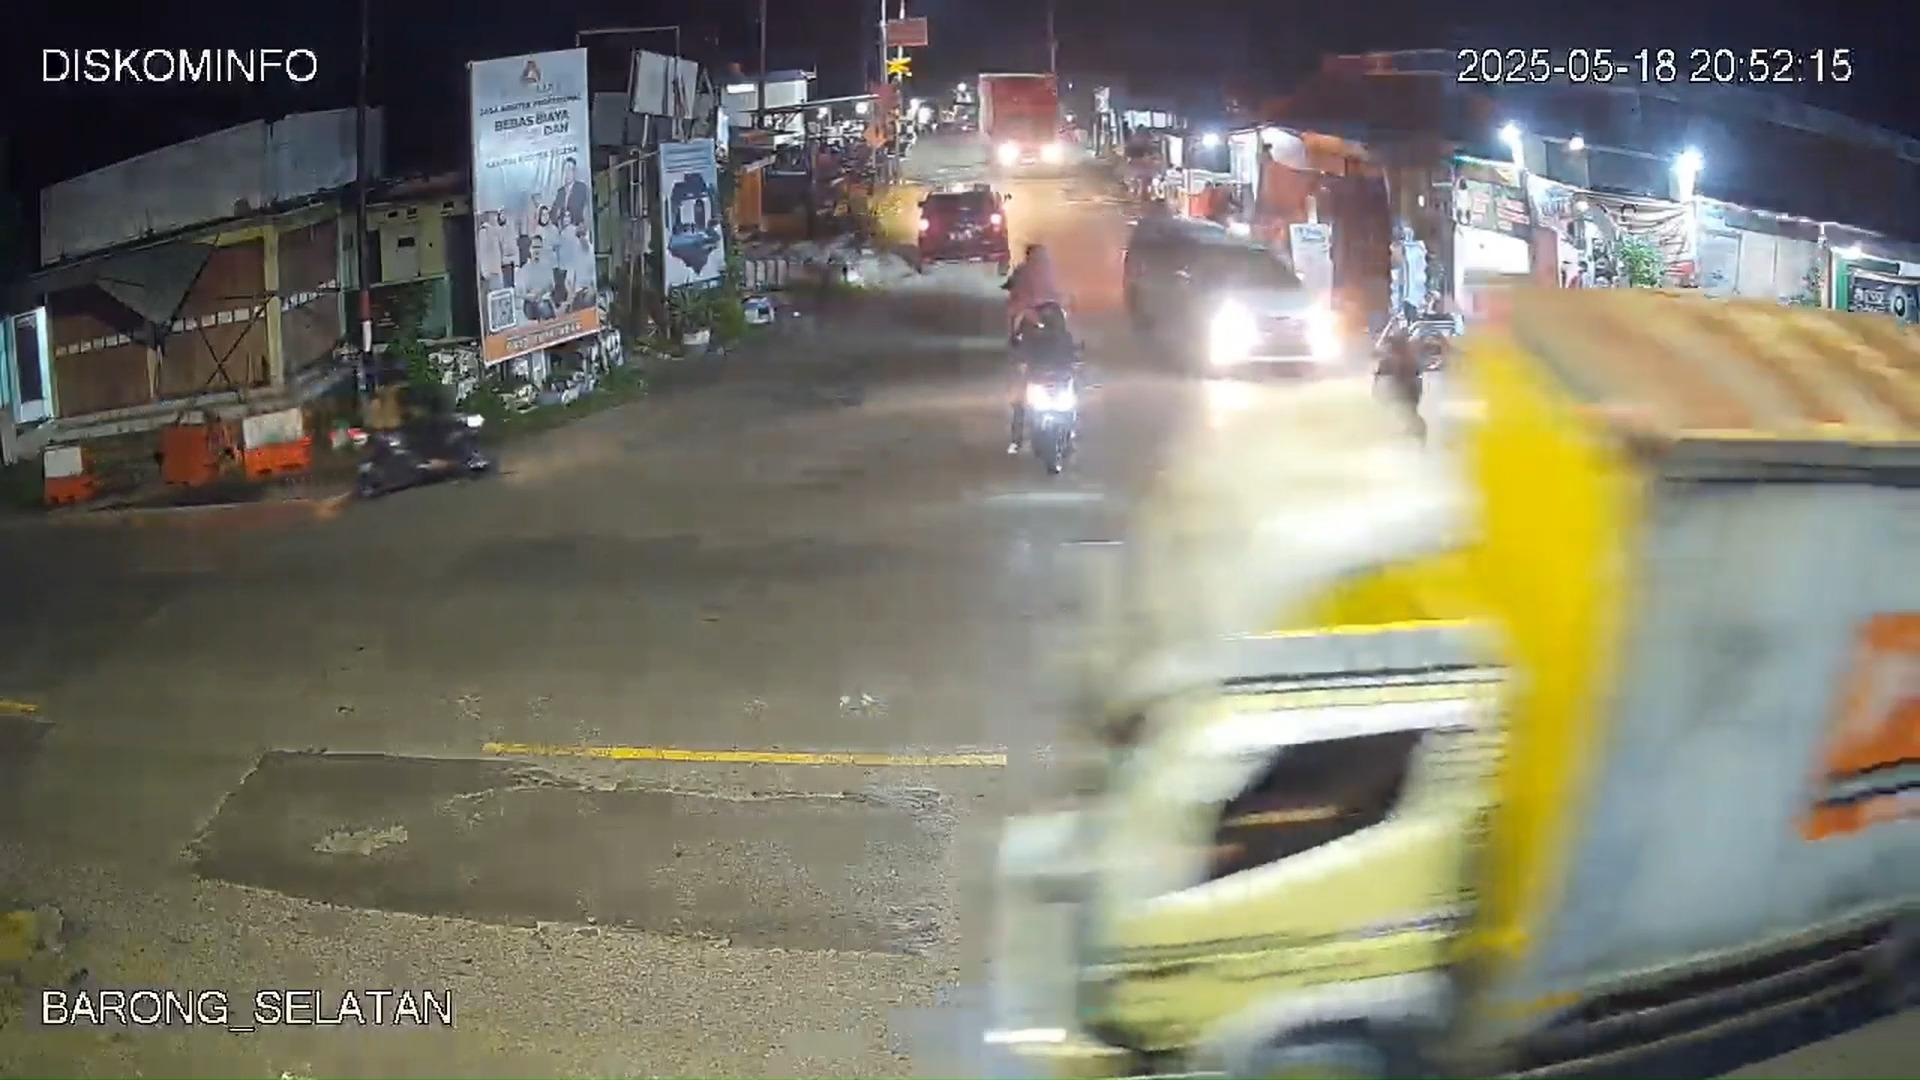Motor: (1000, 291, 1083, 476), (355, 411, 489, 497), (1371, 301, 1448, 439)
Truck: (985, 266, 1916, 1064), (975, 71, 1058, 173)
mobil: (1126, 218, 1315, 376), (915, 183, 1005, 270)
